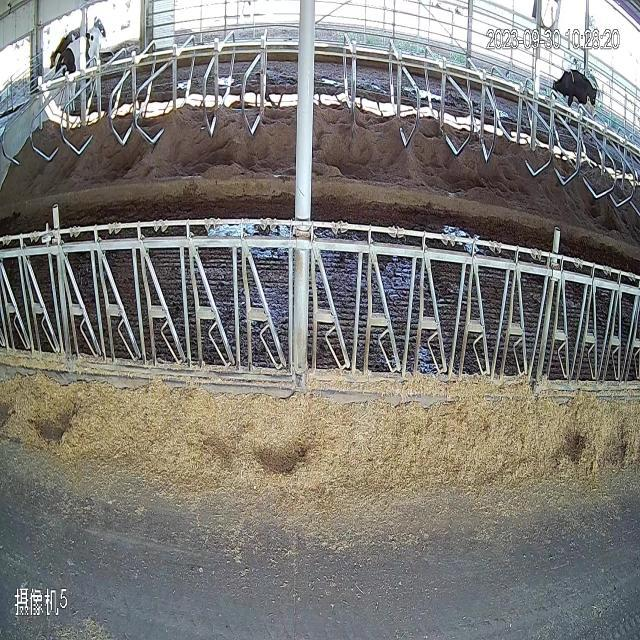standing: (542, 39, 634, 169), (40, 16, 131, 110)
